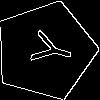Y: (20, 25, 76, 71)
